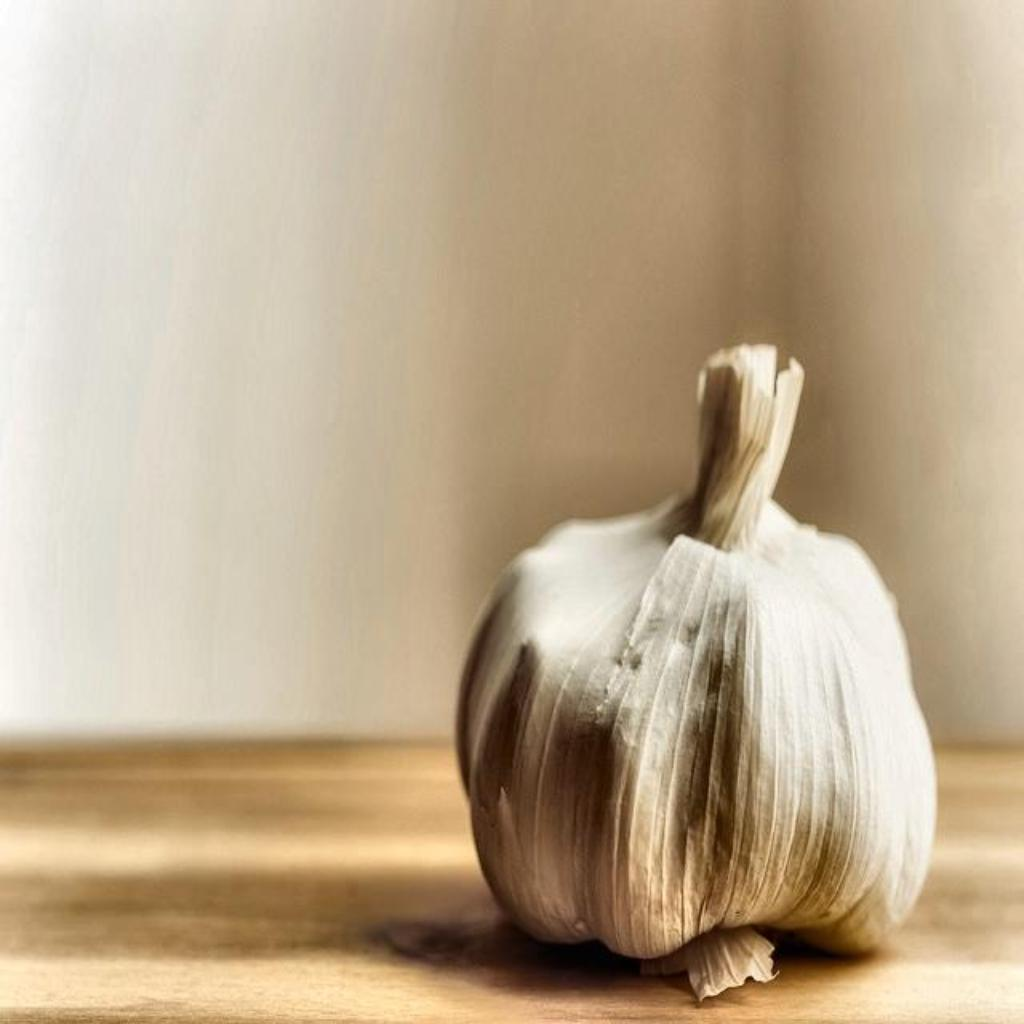garlic: (458, 346, 934, 996)
